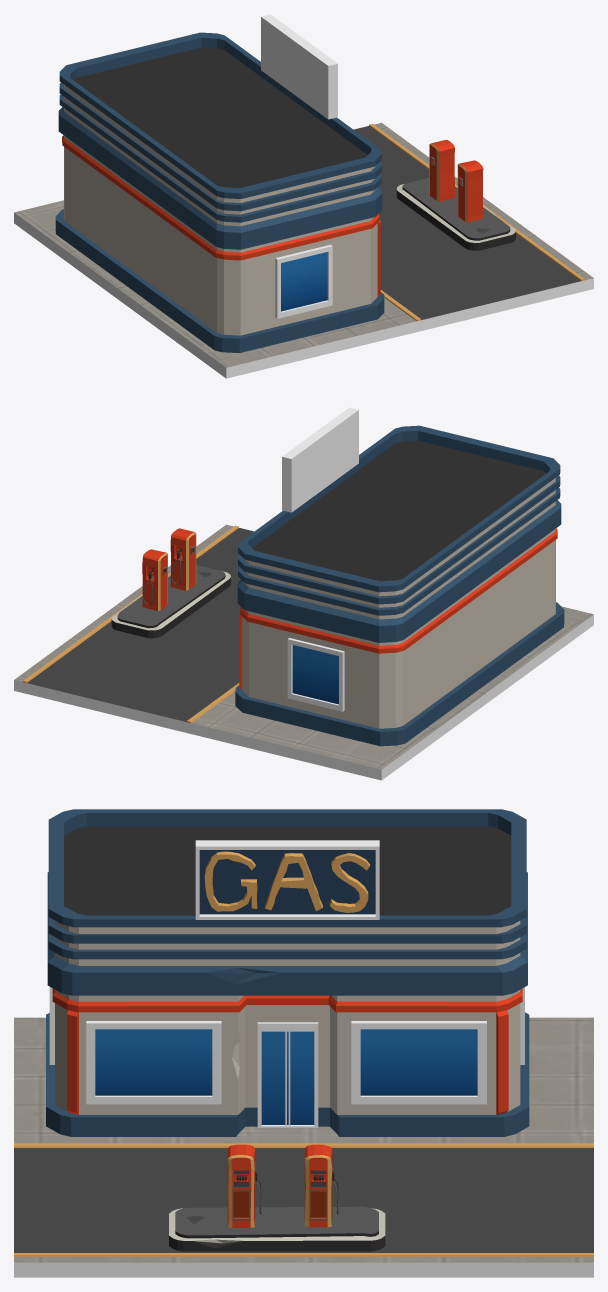
Rendered from Refile_01.fbx.
The picture shows the model from 3 angles, top to bottom: view 1: azimuth 30°, elevation 25°; view 2: azimuth 150°, elevation 25°; view 3: azimuth 270°, elevation 25°; orthographic projection. The views are drawn at different scales.
Visible parts, largest first — view 1: Refile_01; view 2: Refile_01; view 3: Refile_01.
Boxes of the visible parts, x1=… form: Refile_01: x1=14, y1=14, x2=593, y2=378; Refile_01: x1=14, y1=407, x2=593, y2=780; Refile_01: x1=14, y1=809, x2=593, y2=1277.
Size of the model in its own units: 1800 by 1043 by 1800.
